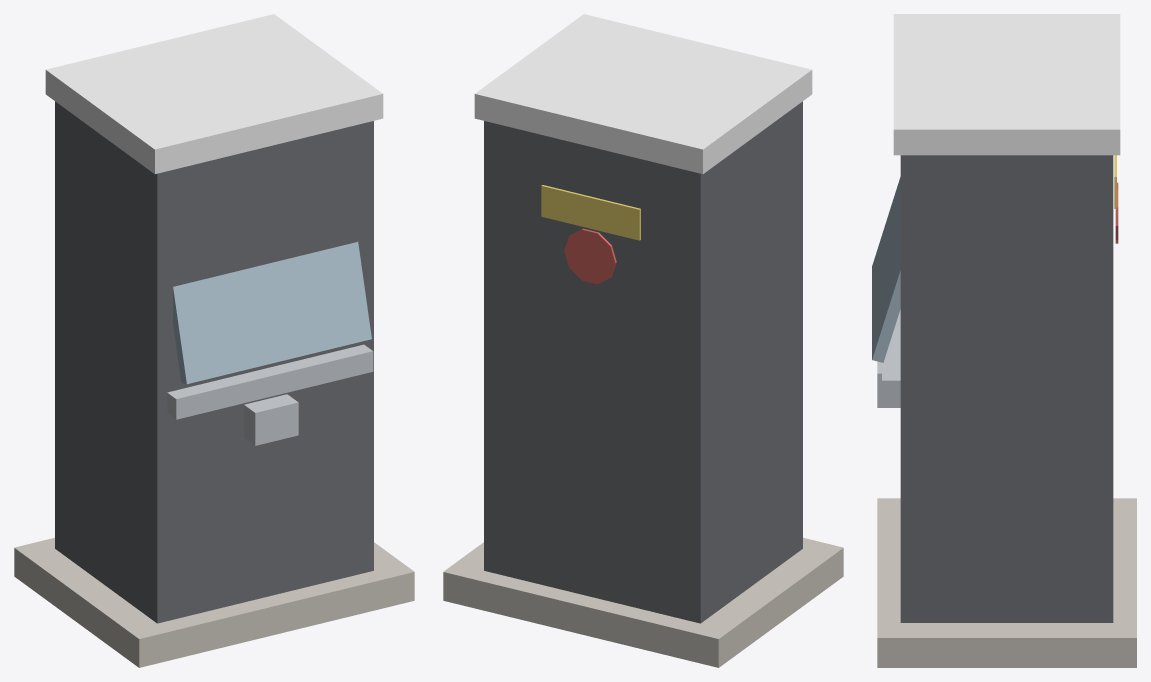
File: scenery-finish-mirror.glb
3 views of the same model, side by side, from view 1: azimuth 30°, elevation 25°; view 2: azimuth 150°, elevation 25°; view 3: azimuth 270°, elevation 25° (orthographic). The views are drawn at different scales.
Visible parts, largest first — view 1: photo-finish-mirror-box; view 2: photo-finish-mirror-box; view 3: photo-finish-mirror-box.
Boxes of the visible parts, x1,y1,x2,y2 form: photo-finish-mirror-box: [14, 14, 414, 667]; photo-finish-mirror-box: [443, 14, 843, 667]; photo-finish-mirror-box: [872, 14, 1136, 667].
Size of the model in its own units: 1.4 by 2.46 by 1.12.
